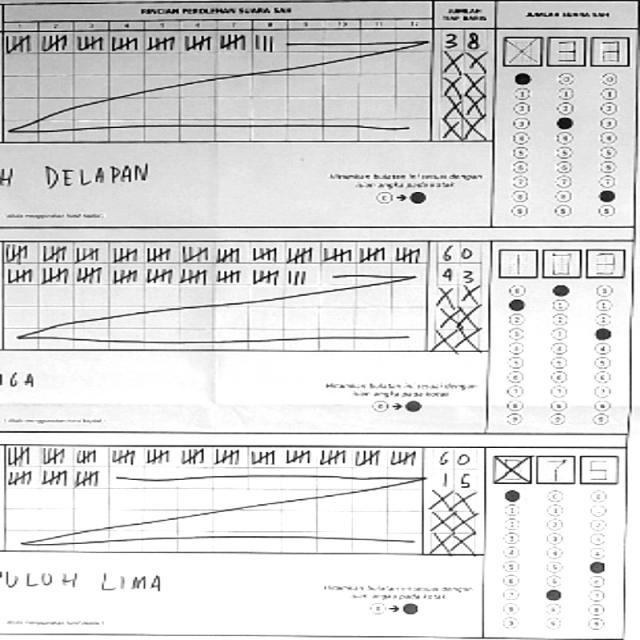Suara: (494, 30, 627, 70), (486, 448, 620, 487), (494, 242, 627, 280)
